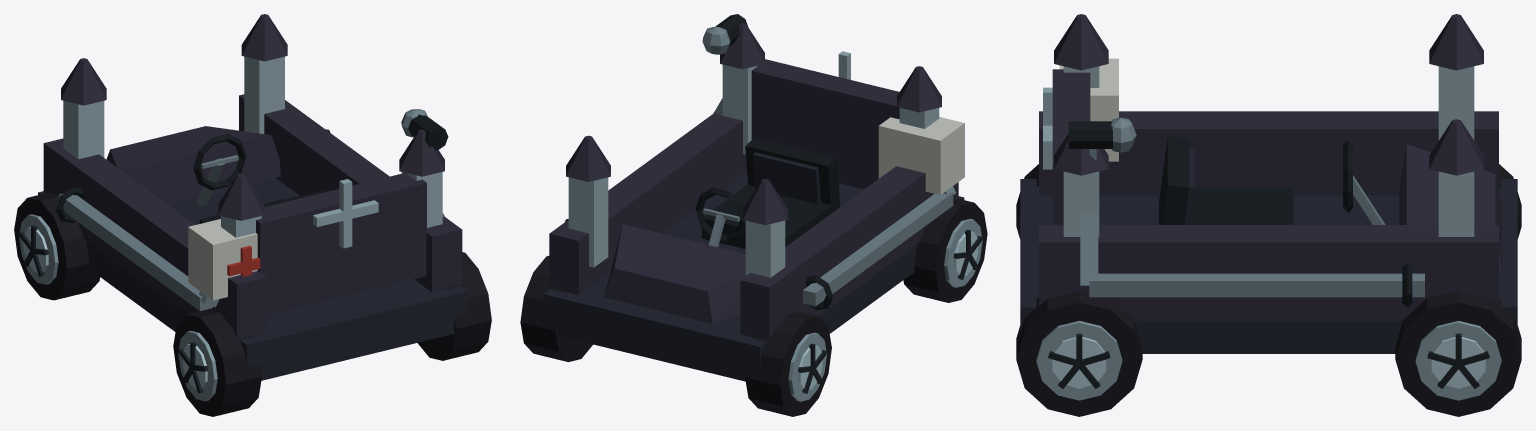
The model's file is kart.glb.
3 views of the same model, side by side, from view 1: azimuth 30°, elevation 25°; view 2: azimuth 150°, elevation 25°; view 3: azimuth 270°, elevation 25° (orthographic). The views are drawn at different scales.
Visible parts, largest first — view 1: identity-reliquary-reliquary-arched-stone-chest, wheel-rear-left, wheel-front-left, identity-reliquary-motif-pipes, identity-reliquary-motif-medical, wheel-rear-right, identity-reliquary-driver-cockpit, identity-reliquary-motif-microphone; view 2: identity-reliquary-reliquary-arched-stone-chest, identity-reliquary-driver-cockpit, wheel-front-left, wheel-rear-left, identity-reliquary-motif-medical, identity-reliquary-motif-pipes, wheel-front-right, identity-reliquary-motif-microphone; view 3: identity-reliquary-reliquary-arched-stone-chest, wheel-front-right, wheel-rear-right, identity-reliquary-motif-pipes, identity-reliquary-driver-cockpit, identity-reliquary-motif-microphone, identity-reliquary-motif-medical.
Boxes of the visible parts, left/top/right/bottom form: identity-reliquary-reliquary-arched-stone-chest: left=38, top=14, right=467, bottom=380; wheel-rear-left: left=173, top=309, right=261, bottom=416; wheel-front-left: left=14, top=193, right=99, bottom=300; identity-reliquary-motif-pipes: left=55, top=129, right=444, bottom=310; identity-reliquary-motif-medical: left=188, top=219, right=260, bottom=300; wheel-rear-right: left=417, top=252, right=491, bottom=360; identity-reliquary-driver-cockpit: left=193, top=133, right=331, bottom=223; identity-reliquary-motif-microphone: left=401, top=109, right=448, bottom=150; identity-reliquary-reliquary-arched-stone-chest: left=543, top=23, right=964, bottom=381; identity-reliquary-driver-cockpit: left=695, top=137, right=840, bottom=248; wheel-front-left: left=745, top=312, right=831, bottom=416; wheel-rear-left: left=903, top=198, right=987, bottom=302; identity-reliquary-motif-medical: left=878, top=117, right=964, bottom=194; identity-reliquary-motif-pipes: left=565, top=98, right=955, bottom=310; wheel-front-right: left=520, top=256, right=592, bottom=361; identity-reliquary-motif-microphone: left=702, top=14, right=747, bottom=54; identity-reliquary-reliquary-arched-stone-chest: left=1020, top=14, right=1517, bottom=353; wheel-front-right: left=1395, top=291, right=1521, bottom=416; wheel-rear-right: left=1016, top=291, right=1142, bottom=416; identity-reliquary-motif-pipes: left=1080, top=214, right=1424, bottom=307; identity-reliquary-driver-cockpit: left=1159, top=136, right=1385, bottom=224; identity-reliquary-motif-microphone: left=1068, top=117, right=1136, bottom=160; identity-reliquary-motif-medical: left=1059, top=58, right=1118, bottom=161.
Size of the model in its own units: 1.97 by 1.57 by 2.56.
